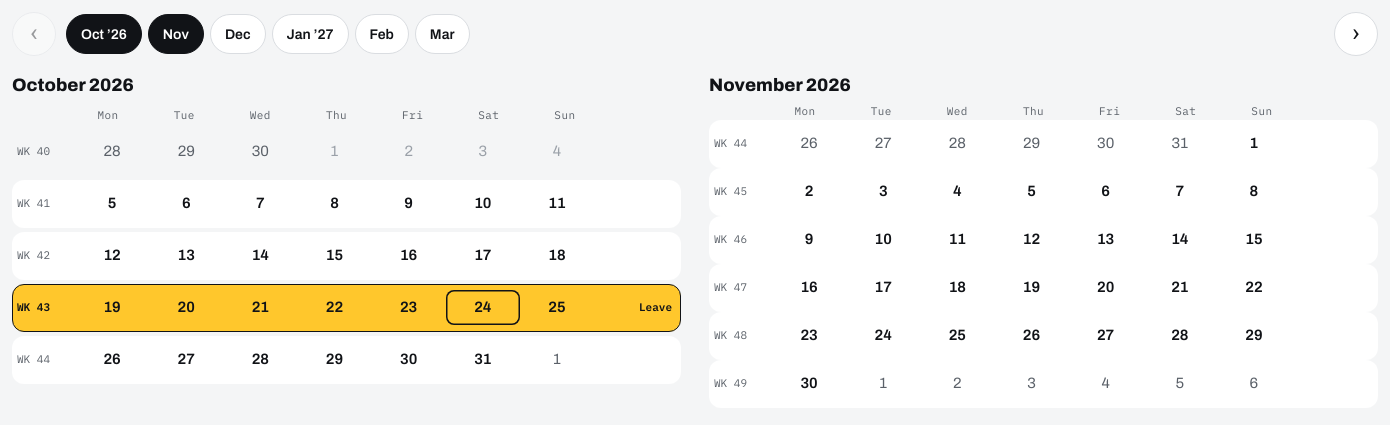
Scenario: picking weeks › one way: nothing is disabled for being too far from the leave week
The width and height of the screenshot is (1390, 425).
Click the button with aria-label "March 2027".
click(442, 34)  # box [415,14,470,54]
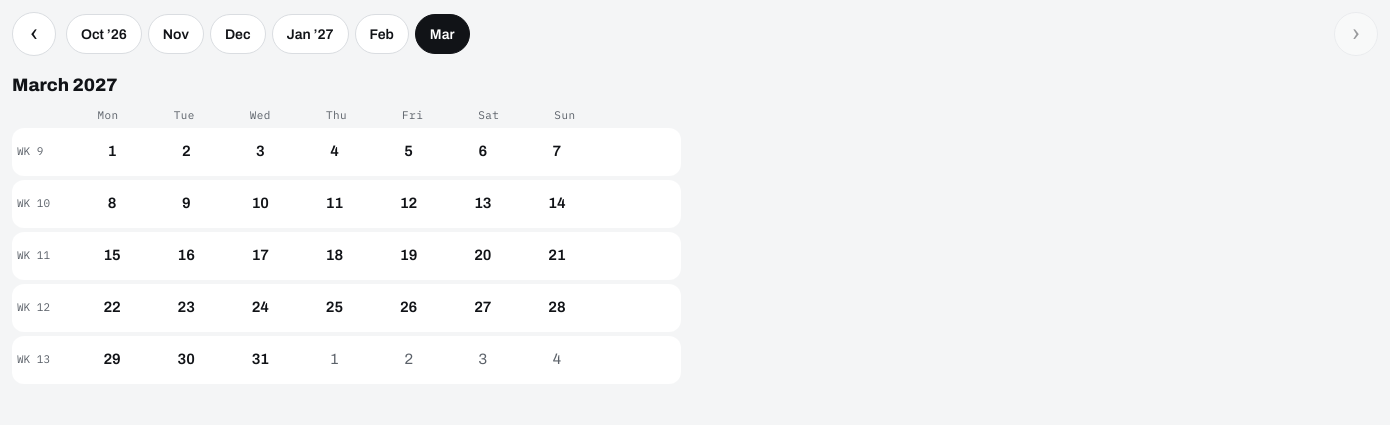
Now the button with aria-label "Week 12, Mon Mar 22" is enabled, box [12,284,681,332]
